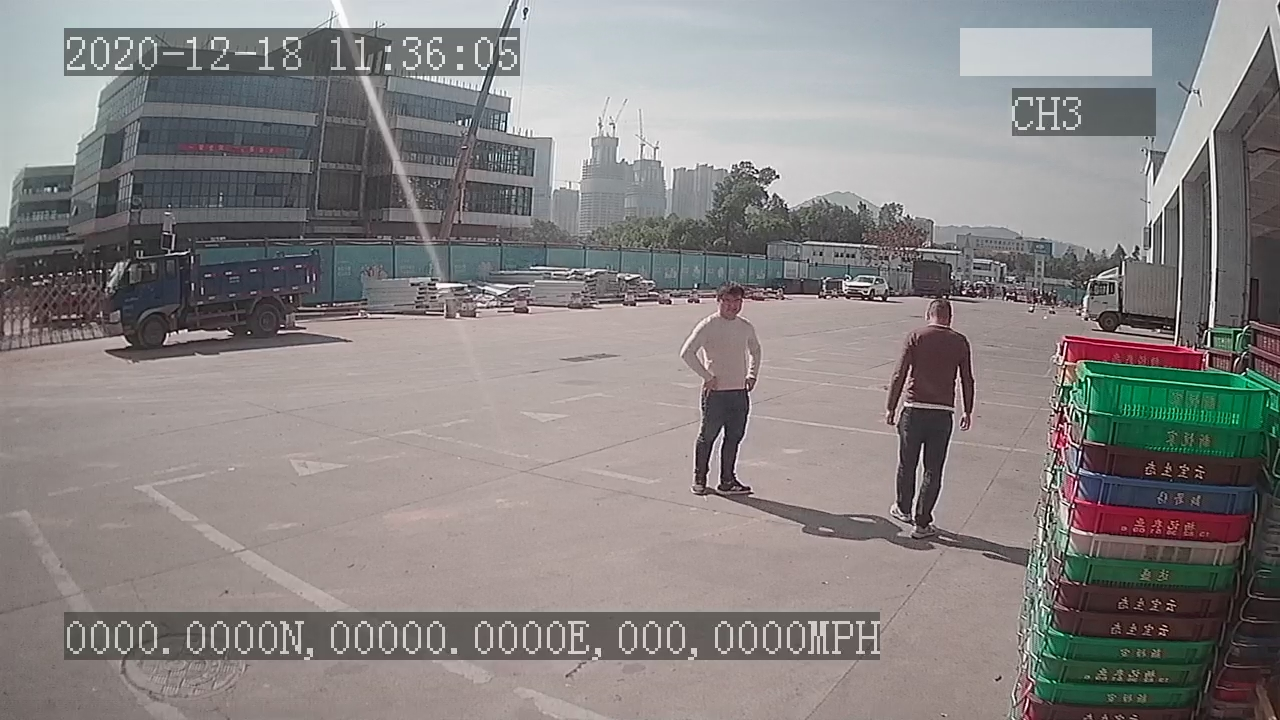person: (882, 298, 979, 545), (678, 280, 765, 502)
